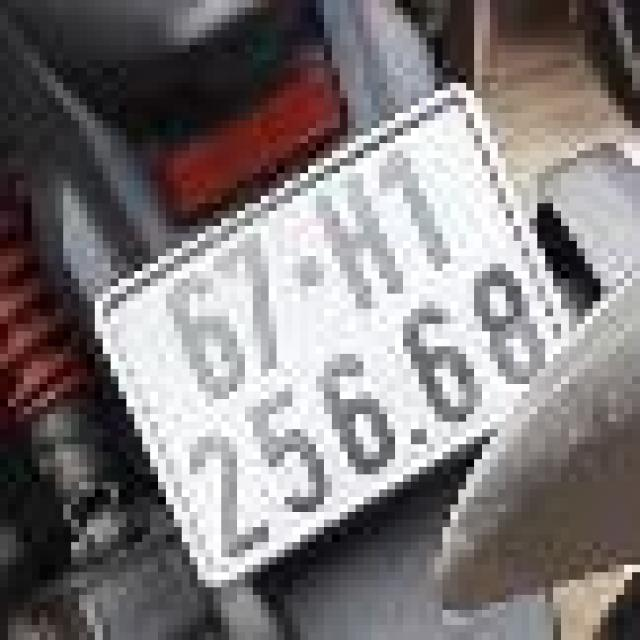1: (373, 146, 474, 283)
2: (174, 418, 284, 572)
5: (239, 377, 343, 520)
6: (304, 330, 422, 492), (379, 289, 504, 440), (153, 260, 264, 411)
7: (208, 216, 326, 390)
8: (447, 250, 565, 409)
H: (296, 169, 424, 319)
